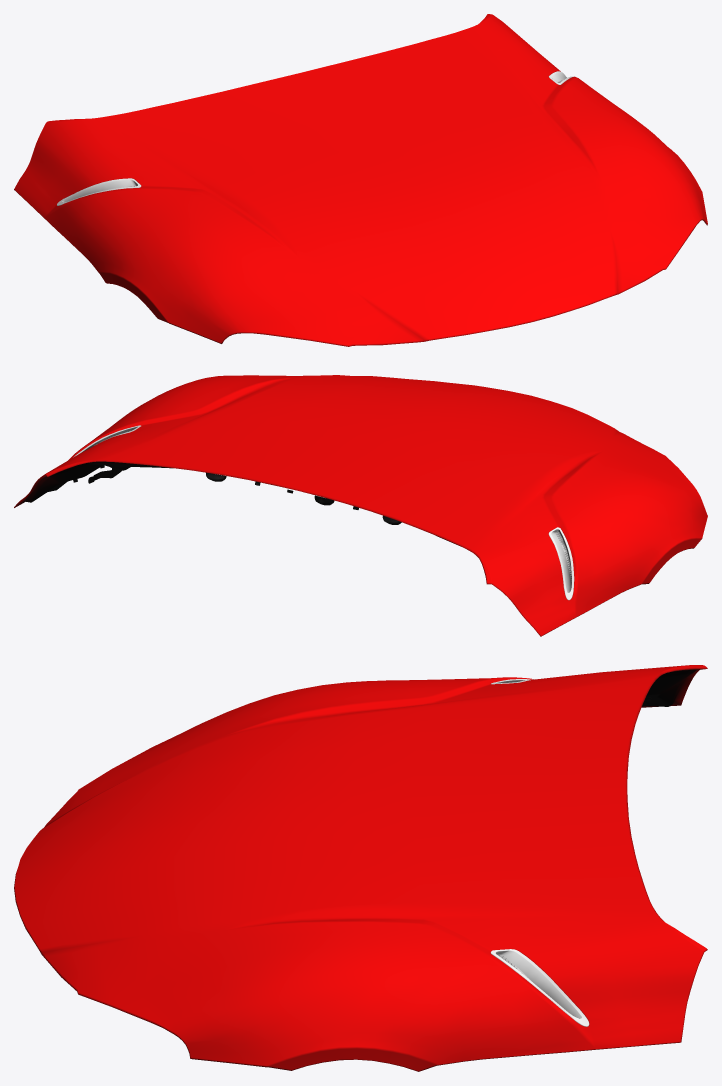
File: Toyota_GRSupra_Hood.FBX
3 renders of one model, top to bottom at view 1: azimuth 30°, elevation 25°; view 2: azimuth 150°, elevation 25°; view 3: azimuth 270°, elevation 25°, orthographic. The views are drawn at different scales.
Visible parts, largest first — view 1: Hood; view 2: Hood; view 3: Hood.
Boxes of the visible parts, x1,y1,x2,y2 form: Hood: (14, 14, 707, 346); Hood: (14, 375, 707, 636); Hood: (14, 665, 707, 1071).
Bounding box in the file's own units: 1.86 × 0.2957 × 1.57.
